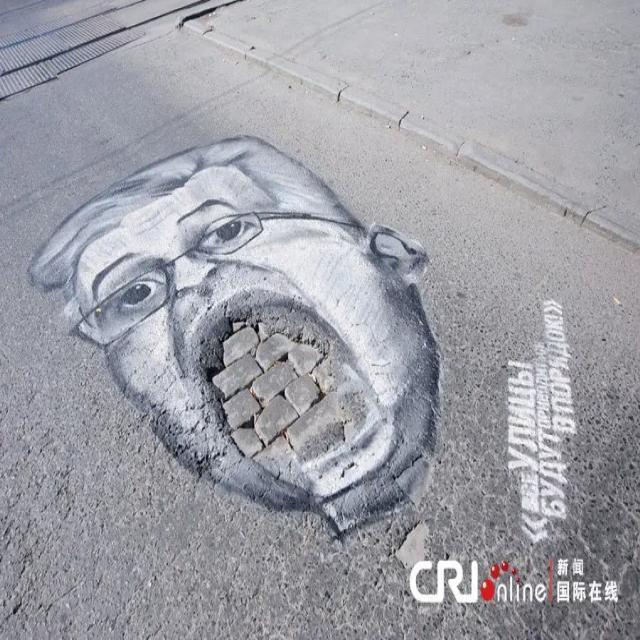Buraco: (196, 308, 357, 462)
